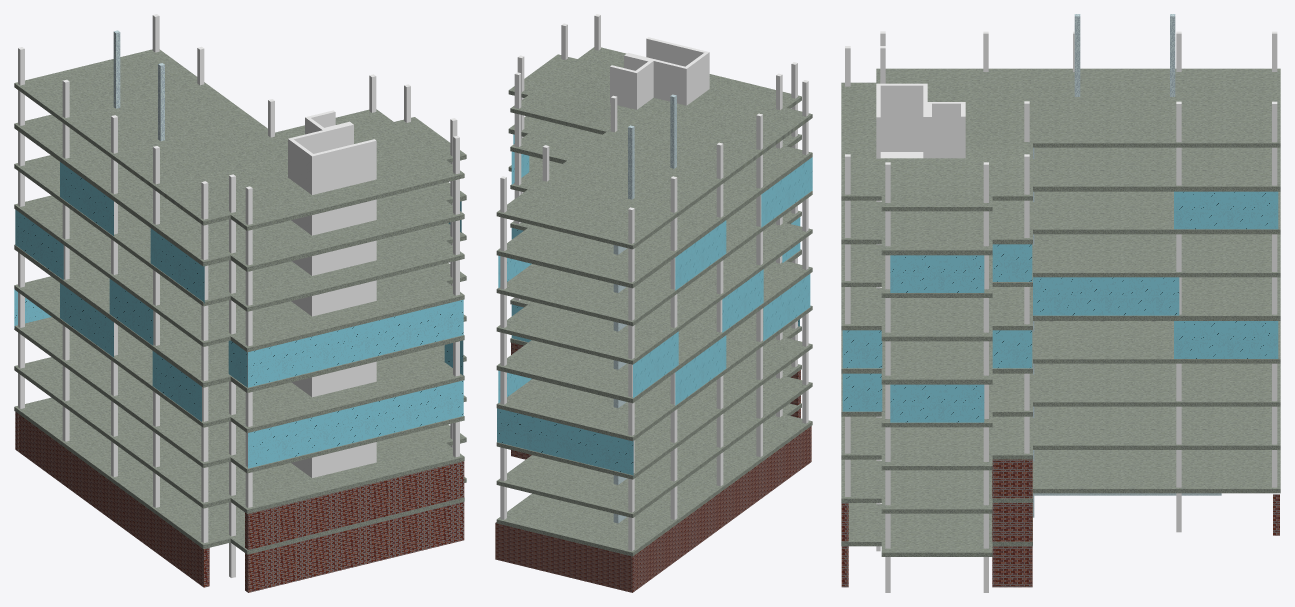
Rendered from BGN_CONSTRUCTION SITE.fbx.
The picture shows the model from 3 angles, left to right: view 1: azimuth 30°, elevation 25°; view 2: azimuth 150°, elevation 25°; view 3: azimuth 270°, elevation 25°; orthographic projection. The views are drawn at different scales.
Parts seen in each view (by area): view 1: BGN_CONSTRUCTION_SITE; view 2: BGN_CONSTRUCTION_SITE; view 3: BGN_CONSTRUCTION_SITE.
Boxes of the visible parts, x1=… form: BGN_CONSTRUCTION_SITE: x1=14, y1=14, x2=466, y2=592; BGN_CONSTRUCTION_SITE: x1=495, y1=14, x2=812, y2=592; BGN_CONSTRUCTION_SITE: x1=841, y1=14, x2=1280, y2=592.
Bounding box in the file's own units: 2571 × 4170 × 3438.
